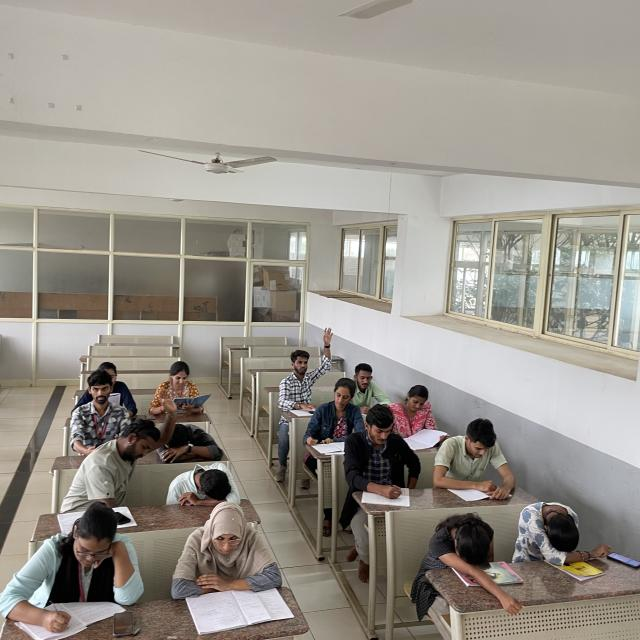Hand Rising: (283, 323, 338, 401)
Reading: (168, 502, 293, 626), (430, 415, 519, 503), (390, 380, 460, 448), (147, 351, 215, 416)
Sleeping: (409, 502, 507, 593), (508, 494, 594, 563), (148, 409, 235, 465), (163, 458, 253, 512)
Writing: (2, 506, 144, 635), (341, 402, 422, 507), (304, 374, 364, 451)
